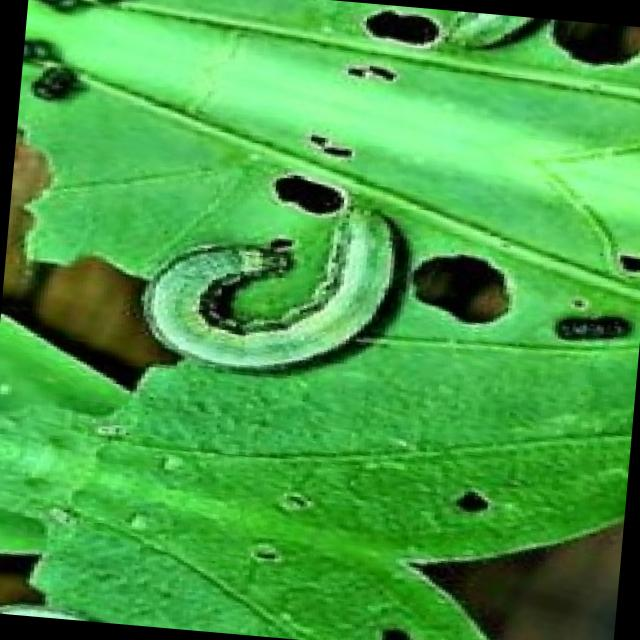Armyworm: (109, 172, 421, 427)
Armyworm_damage: (392, 239, 535, 347), (536, 19, 640, 89), (258, 170, 388, 225), (355, 3, 453, 56), (598, 243, 640, 285)
